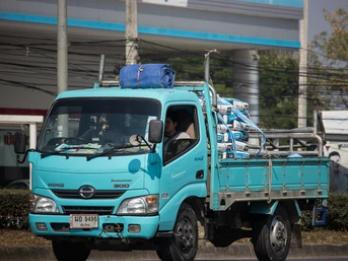vehicle: (13, 83, 331, 261)
